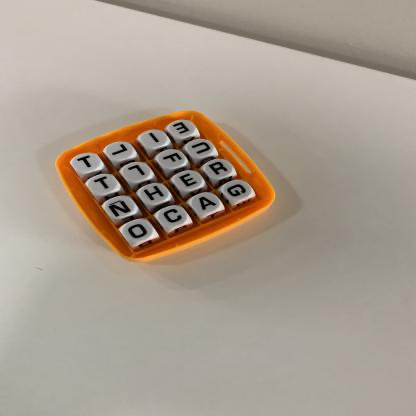a: (191, 193, 221, 214)
c: (159, 207, 189, 229)
e: (173, 171, 204, 192), (169, 120, 197, 139)
f: (157, 150, 187, 171)
g: (223, 181, 254, 202)
h: (139, 183, 170, 207)
i: (141, 130, 169, 150)
l: (122, 163, 153, 184), (107, 142, 136, 162)
n: (105, 197, 137, 219)
o: (122, 220, 155, 243)
r: (205, 160, 234, 180)
t: (72, 153, 103, 174), (87, 174, 118, 195)
u: (187, 140, 215, 160)
